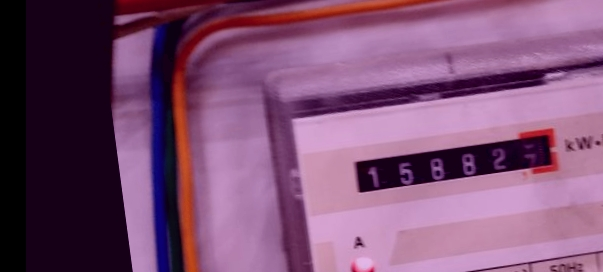1: (366, 163, 383, 189)
2: (490, 143, 510, 171)
5: (397, 159, 416, 185)
7: (523, 149, 539, 167)
8: (427, 154, 447, 180), (459, 148, 478, 175)
screen: (340, 119, 571, 207)
